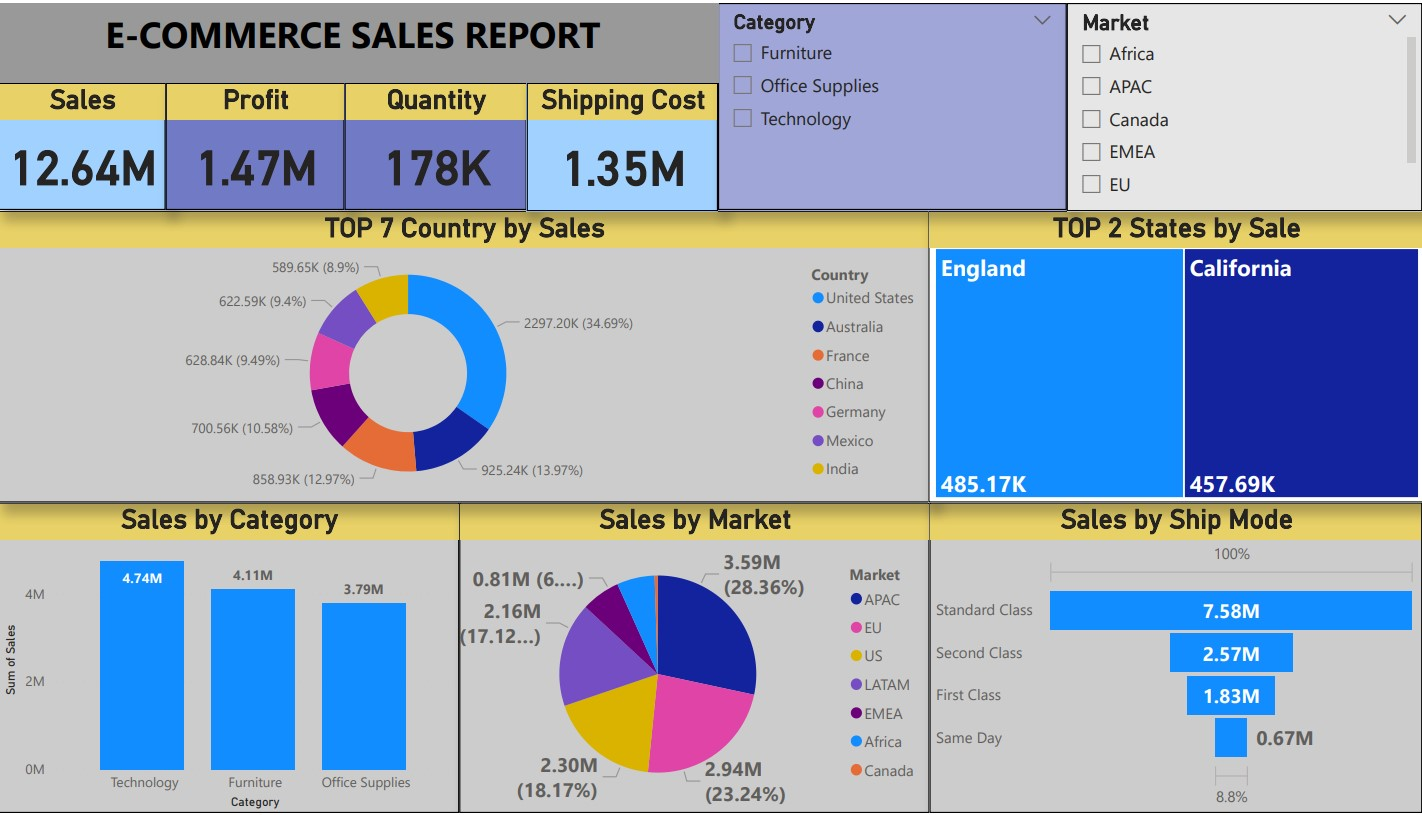

The dashboard page shown, as its layout file describes it:
{"tool":"powerbi","page":{"name":"SALES REPORT","canvas":[1280,720],"ordinal":0},"visuals":[{"type":"columnChart","title":"Sales by Category","fields":{"Category":["Orders.Category"],"Y":["Sum(Orders.Sales)"]},"box":[0,443.7,409.5,276.3],"z":0},{"type":"pieChart","title":"Sales by Market","fields":{"Category":["Orders.Market"],"Y":["Sum(Orders.Sales)"]},"box":[409.5,443.7,418.1,276.3],"z":1000},{"type":"funnel","title":"Sales by Ship Mode","fields":{"Category":["Orders.Ship Mode"],"Y":["Sum(Orders.Sales)"]},"box":[827.6,443.7,438.8,276.3],"z":2000},{"type":"donutChart","title":"TOP 7 Country by Sales","fields":{"Y":["Sum(Orders.Sales)"],"Category":["Orders.Country"]},"box":[0,184.6,827.6,259.2],"z":3000},{"type":"treemap","title":"TOP 2 States by Sale","fields":{"Group":["Orders.State"],"Values":["Sum(Orders.Sales)"]},"box":[827.3,184.8,439.2,259.1],"z":4000},{"type":"card","title":"Sales","fields":{"Values":["Sum(Orders.Sales)"]},"box":[0,71.4,149.5,113.1],"z":5000},{"type":"card","title":"Profit","fields":{"Values":["Sum(Orders.Profit)"]},"box":[149.5,71.4,158.9,113.1],"z":6000},{"type":"card","title":"Quantity","fields":{"Values":["Sum(Orders.Quantity)"]},"box":[308.4,71.4,161.6,113.1],"z":7000},{"type":"card","title":"Shipping Cost","fields":{"Values":["Sum(Orders.Shipping Cost)"]},"box":[470,71.2,170,113.8],"z":8000},{"type":"slicer","fields":{"Values":["Orders.Category"]},"box":[640,0,310,183.8],"z":9000},{"type":"slicer","fields":{"Values":["Orders.Market"]},"box":[950,0,316.2,185],"z":10000},{"type":"textbox","box":[0,0,640,71.2],"z":11000}]}

Visuals, with their boxes in screenshot pixels (x1, y1, x2, y2), scaled from the page's 1280x720 canvas onto the 1422x815 screenshot:
"Sales by Category" columnChart: left=0, top=502, right=455, bottom=814
"Sales by Market" pieChart: left=455, top=502, right=919, bottom=814
"Sales by Ship Mode" funnel: left=919, top=502, right=1407, bottom=814
"TOP 7 Country by Sales" donutChart: left=0, top=209, right=919, bottom=502
"TOP 2 States by Sale" treemap: left=919, top=209, right=1407, bottom=502
"Sales" card: left=0, top=81, right=166, bottom=209
"Profit" card: left=166, top=81, right=343, bottom=209
"Quantity" card: left=343, top=81, right=522, bottom=209
"Shipping Cost" card: left=522, top=81, right=711, bottom=209
slicer - Orders.Category: left=711, top=0, right=1055, bottom=208
slicer - Orders.Market: left=1055, top=0, right=1407, bottom=209
textbox: left=0, top=0, right=711, bottom=81
